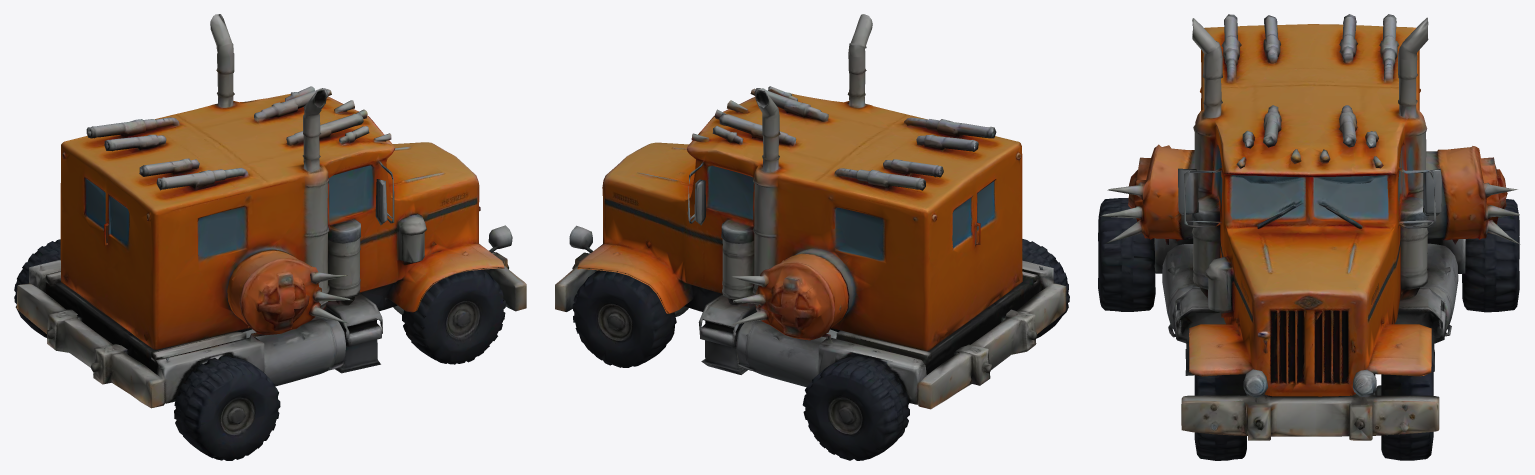
The model's file is warrig.glb.
3 views of the same model, side by side, from view 1: azimuth 30°, elevation 25°; view 2: azimuth 150°, elevation 25°; view 3: azimuth 270°, elevation 25° (orthographic). The views are drawn at different scales.
Parts seen in each view (by area): view 1: tripo_node_c8139b1a-0df7-4ae4-8f94-0a0527e16944; view 2: tripo_node_c8139b1a-0df7-4ae4-8f94-0a0527e16944; view 3: tripo_node_c8139b1a-0df7-4ae4-8f94-0a0527e16944.
Part boxes in pixels (x1=…): tripo_node_c8139b1a-0df7-4ae4-8f94-0a0527e16944: x1=14, y1=14, x2=526, y2=460; tripo_node_c8139b1a-0df7-4ae4-8f94-0a0527e16944: x1=555, y1=14, x2=1069, y2=460; tripo_node_c8139b1a-0df7-4ae4-8f94-0a0527e16944: x1=1098, y1=14, x2=1520, y2=460.
Size of the model in its own units: 4.88 by 3.5 by 3.77.
1 material, 1 textured.
